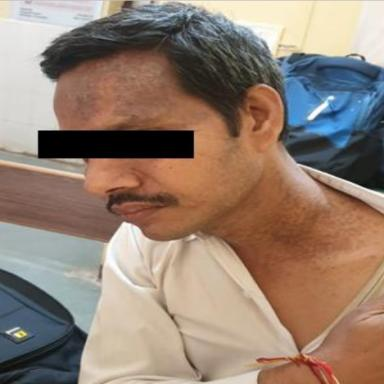Darier_s-Disease: (245, 168, 382, 274), (53, 50, 178, 130)
